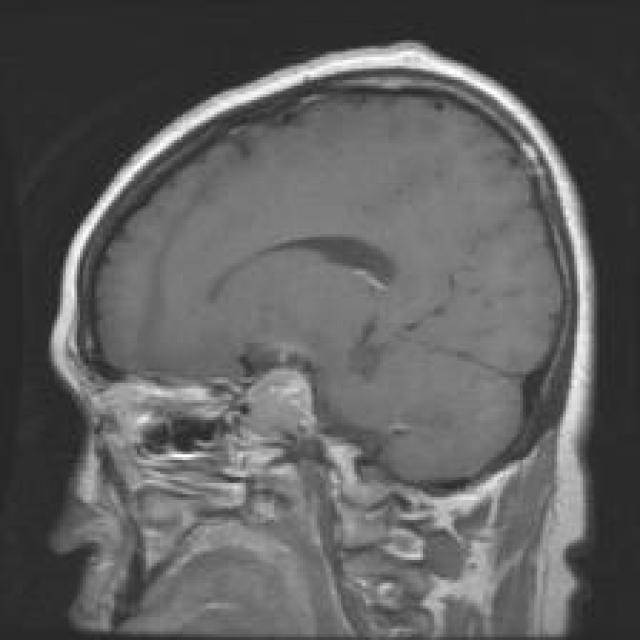pituitary_tumor: (226, 347, 335, 469)
